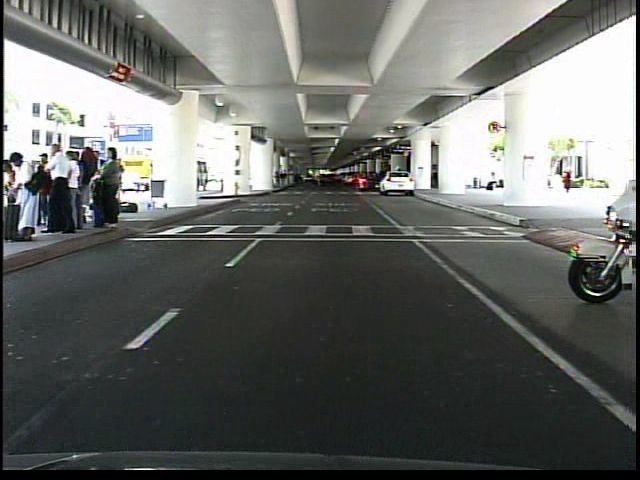person: (555, 158, 578, 197), (484, 165, 500, 197)
